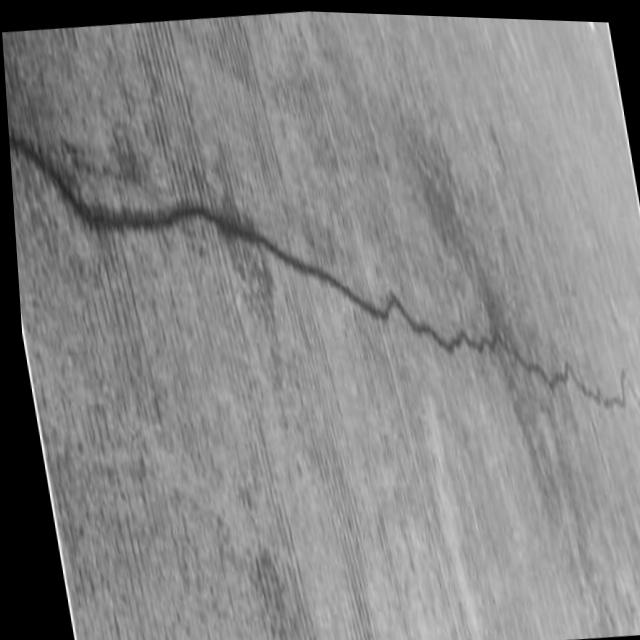Crack: (6, 114, 420, 342), (368, 292, 640, 460)
